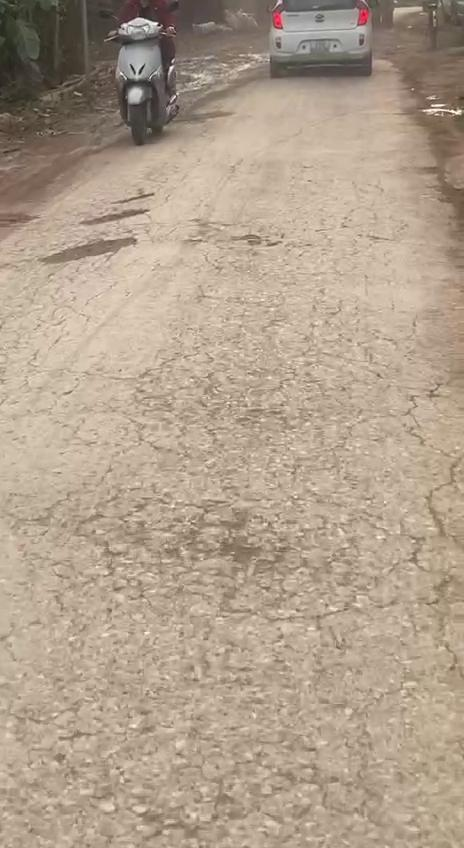pothole: (40, 230, 140, 262)
